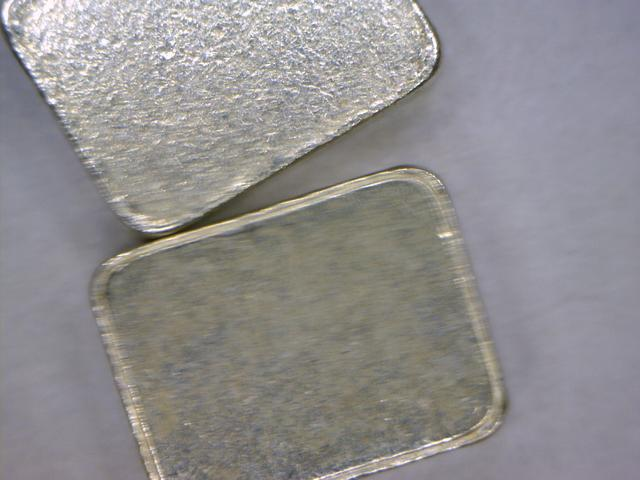nok: (75, 161, 536, 476)
